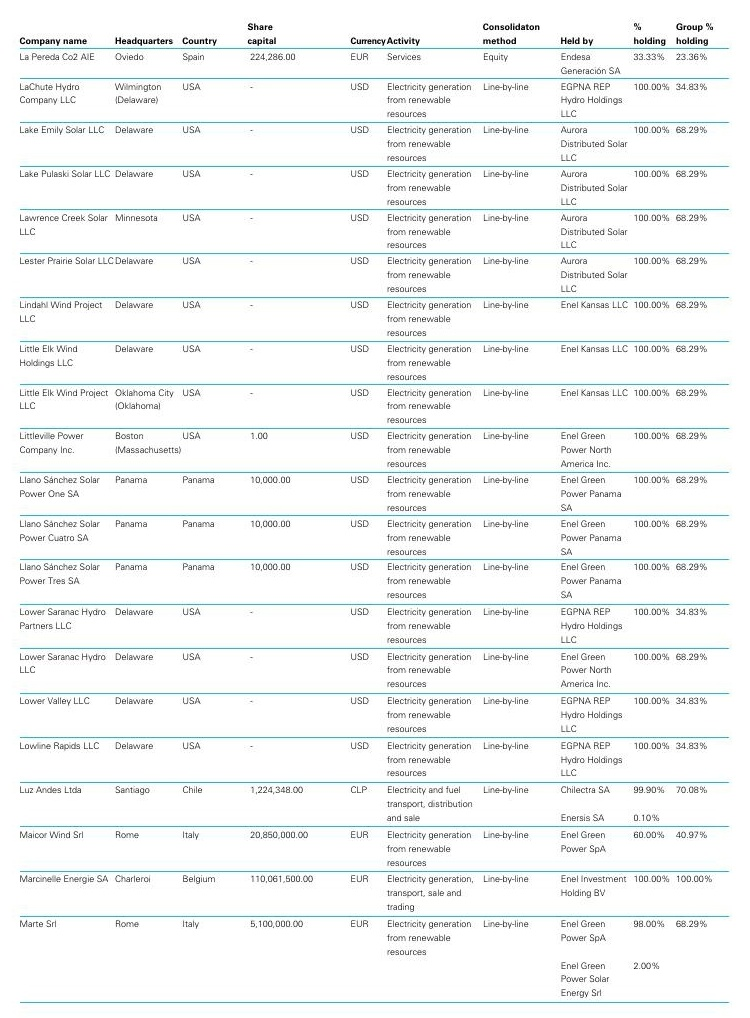table: (0, 0, 750, 1018)
